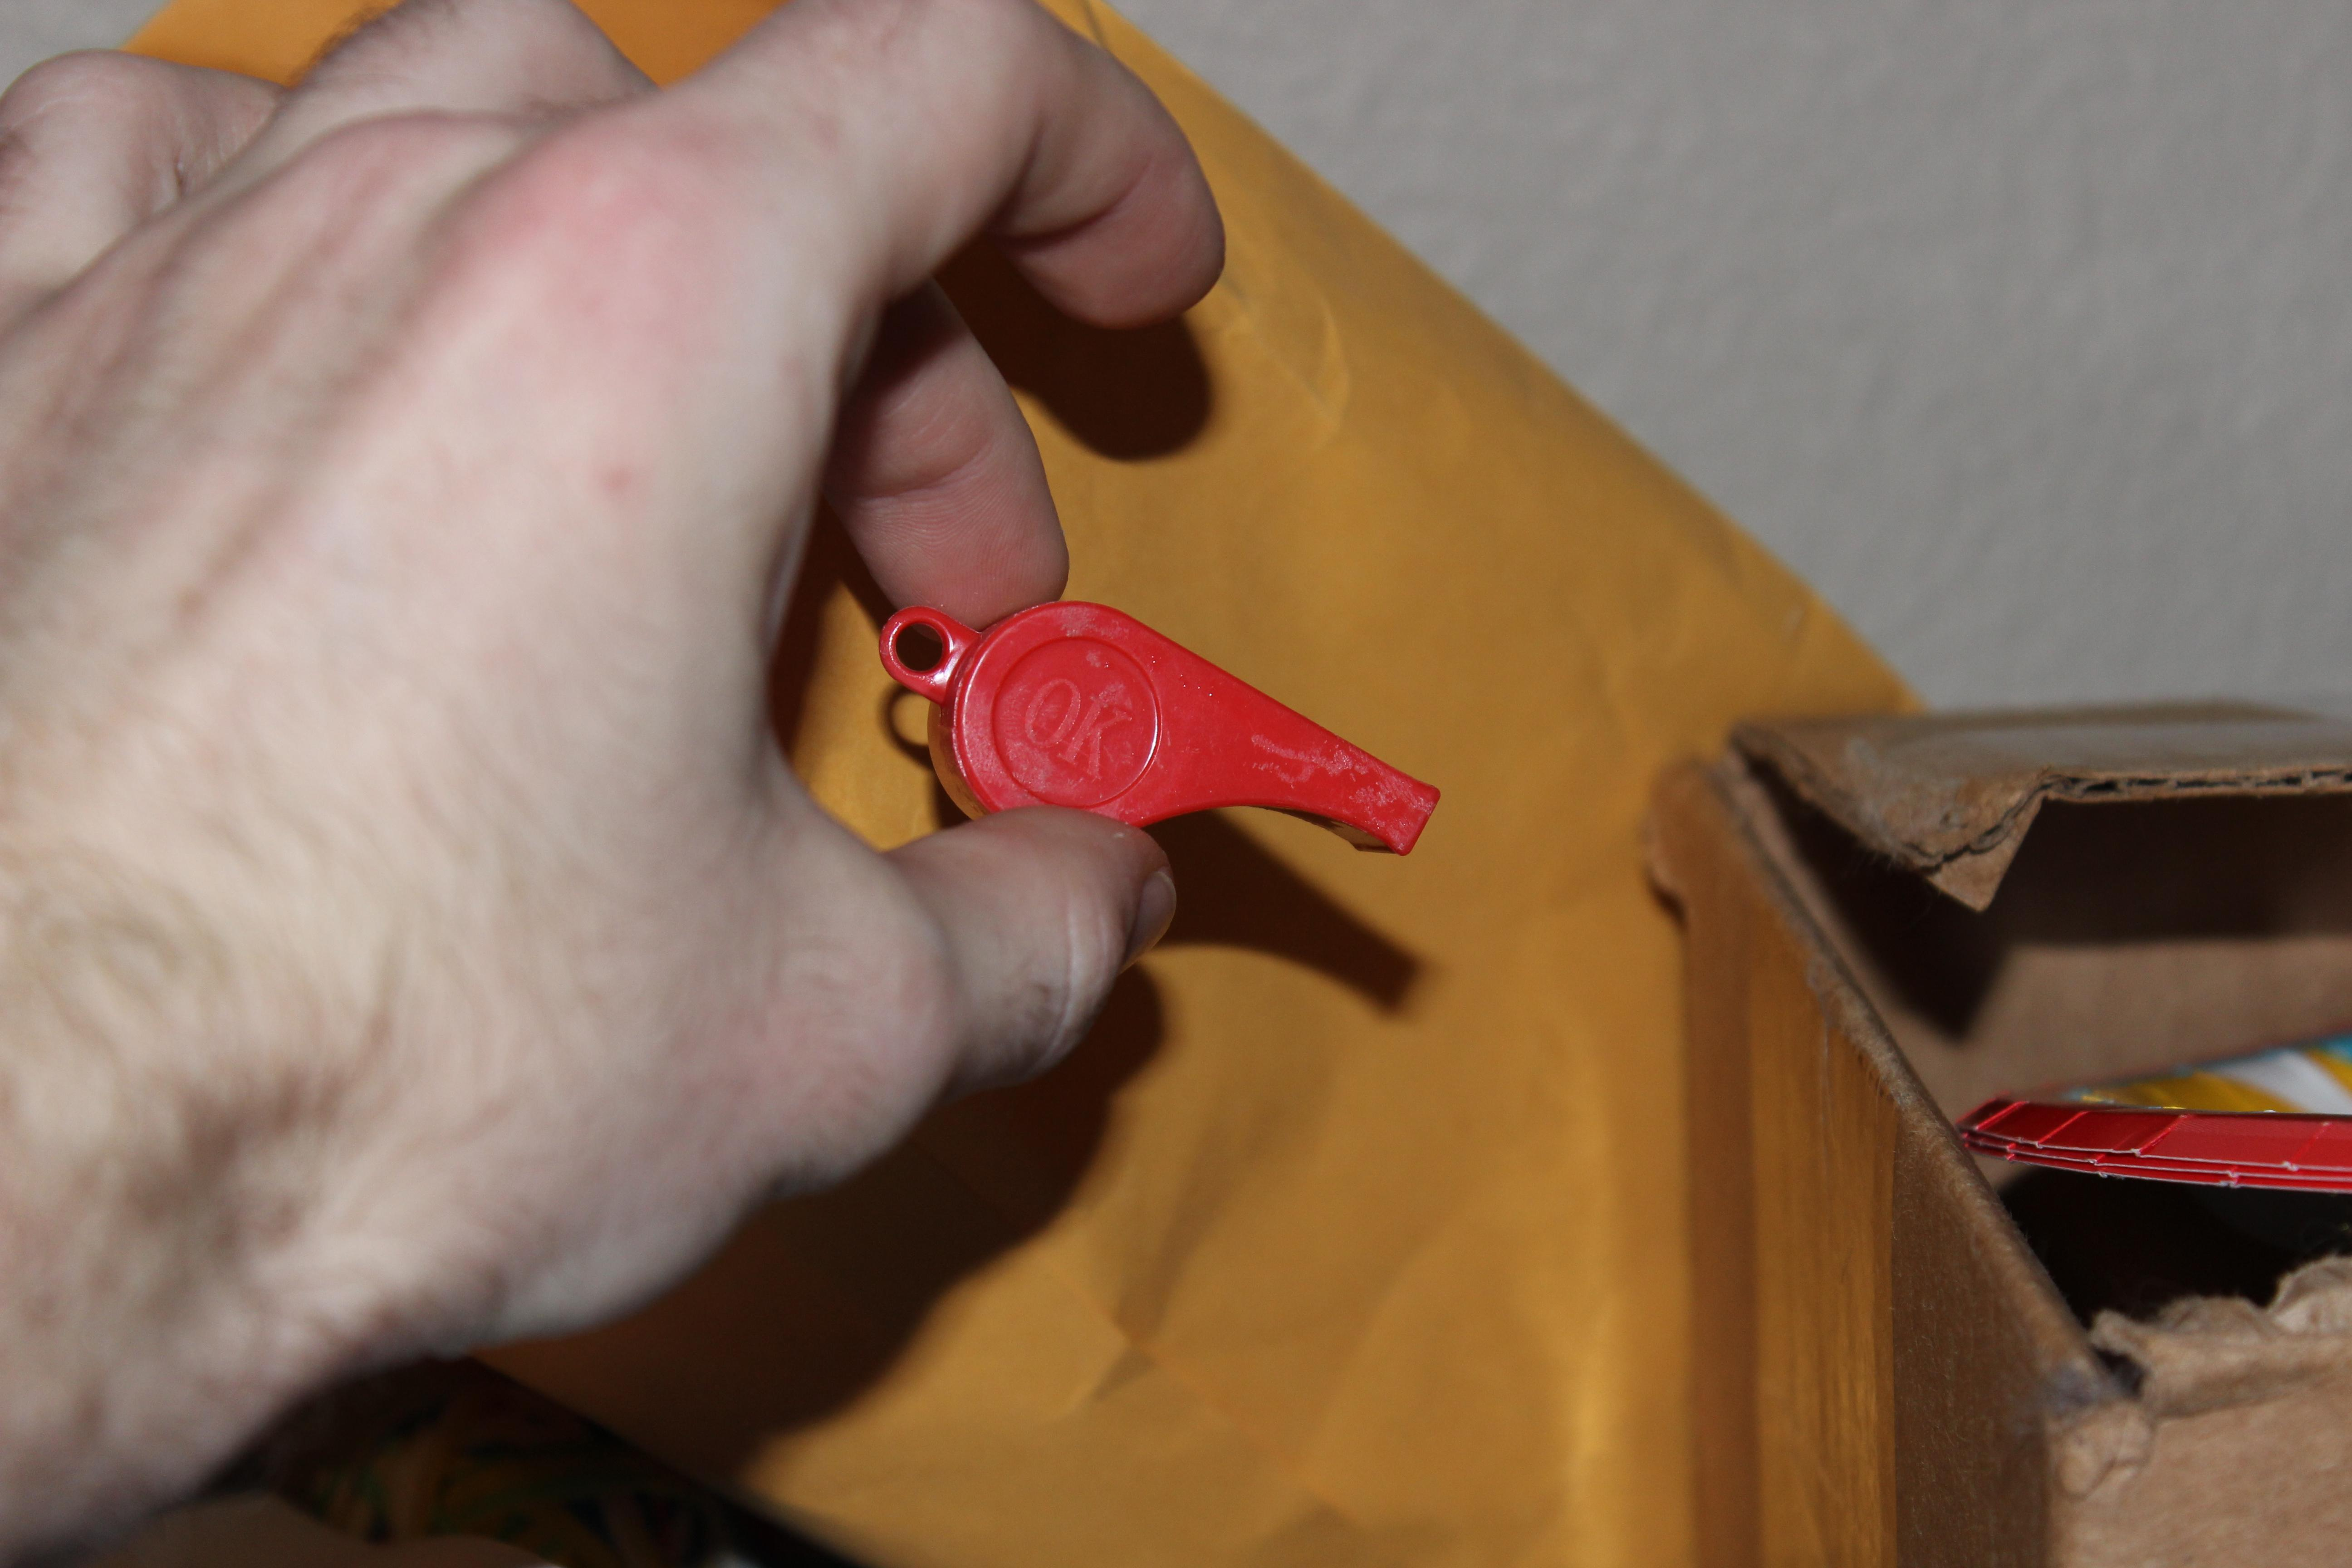redWhistle: (857, 553, 1468, 945)
